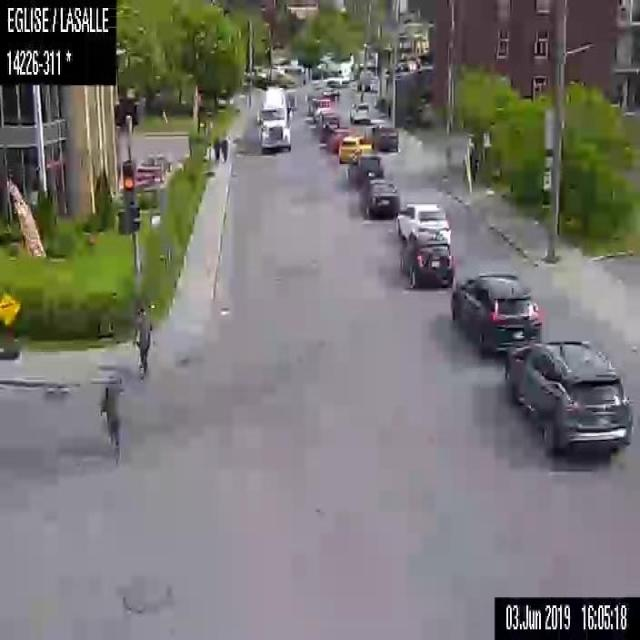pedestrian: (99, 383, 122, 461), (130, 308, 154, 381), (464, 135, 481, 185), (211, 134, 222, 166), (220, 132, 229, 163)
vehicle: (502, 337, 632, 456), (448, 266, 542, 360), (396, 230, 455, 292), (392, 200, 450, 246), (256, 87, 296, 153), (360, 177, 400, 220), (346, 152, 380, 182), (368, 122, 401, 152), (337, 137, 372, 164), (314, 106, 340, 141), (322, 58, 354, 86), (348, 98, 370, 124), (329, 125, 348, 152)
